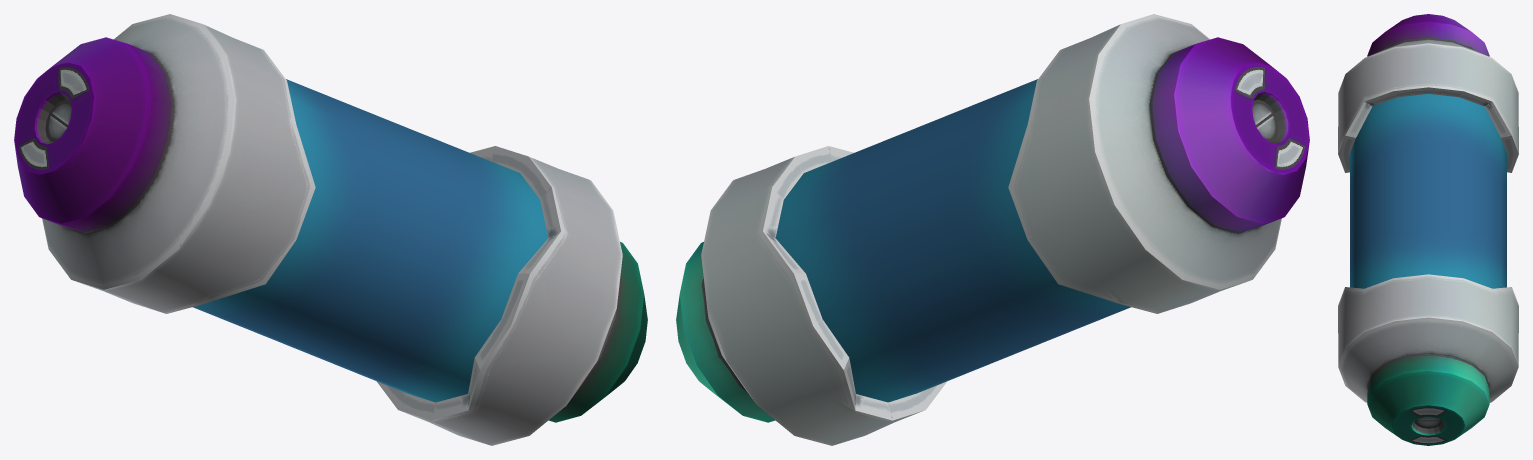
The model's file is Bình_Rỗng.fbx.
3 views of the same model, side by side, from view 1: azimuth 30°, elevation 25°; view 2: azimuth 150°, elevation 25°; view 3: azimuth 270°, elevation 25° (orthographic). The views are drawn at different scales.
Visible parts, largest first — view 1: capsule_low Copy Copy_Body_low.014; view 2: capsule_low Copy Copy_Body_low.014; view 3: capsule_low Copy Copy_Body_low.014.
Boxes of the visible parts, x1,y1,x2,y2 form: capsule_low Copy Copy_Body_low.014: (14,14,647,445); capsule_low Copy Copy_Body_low.014: (676,14,1309,445); capsule_low Copy Copy_Body_low.014: (1338,14,1518,445).
Bounding box in the file's own units: 111 × 82.44 × 45.75.
2 materials, 2 textured.
